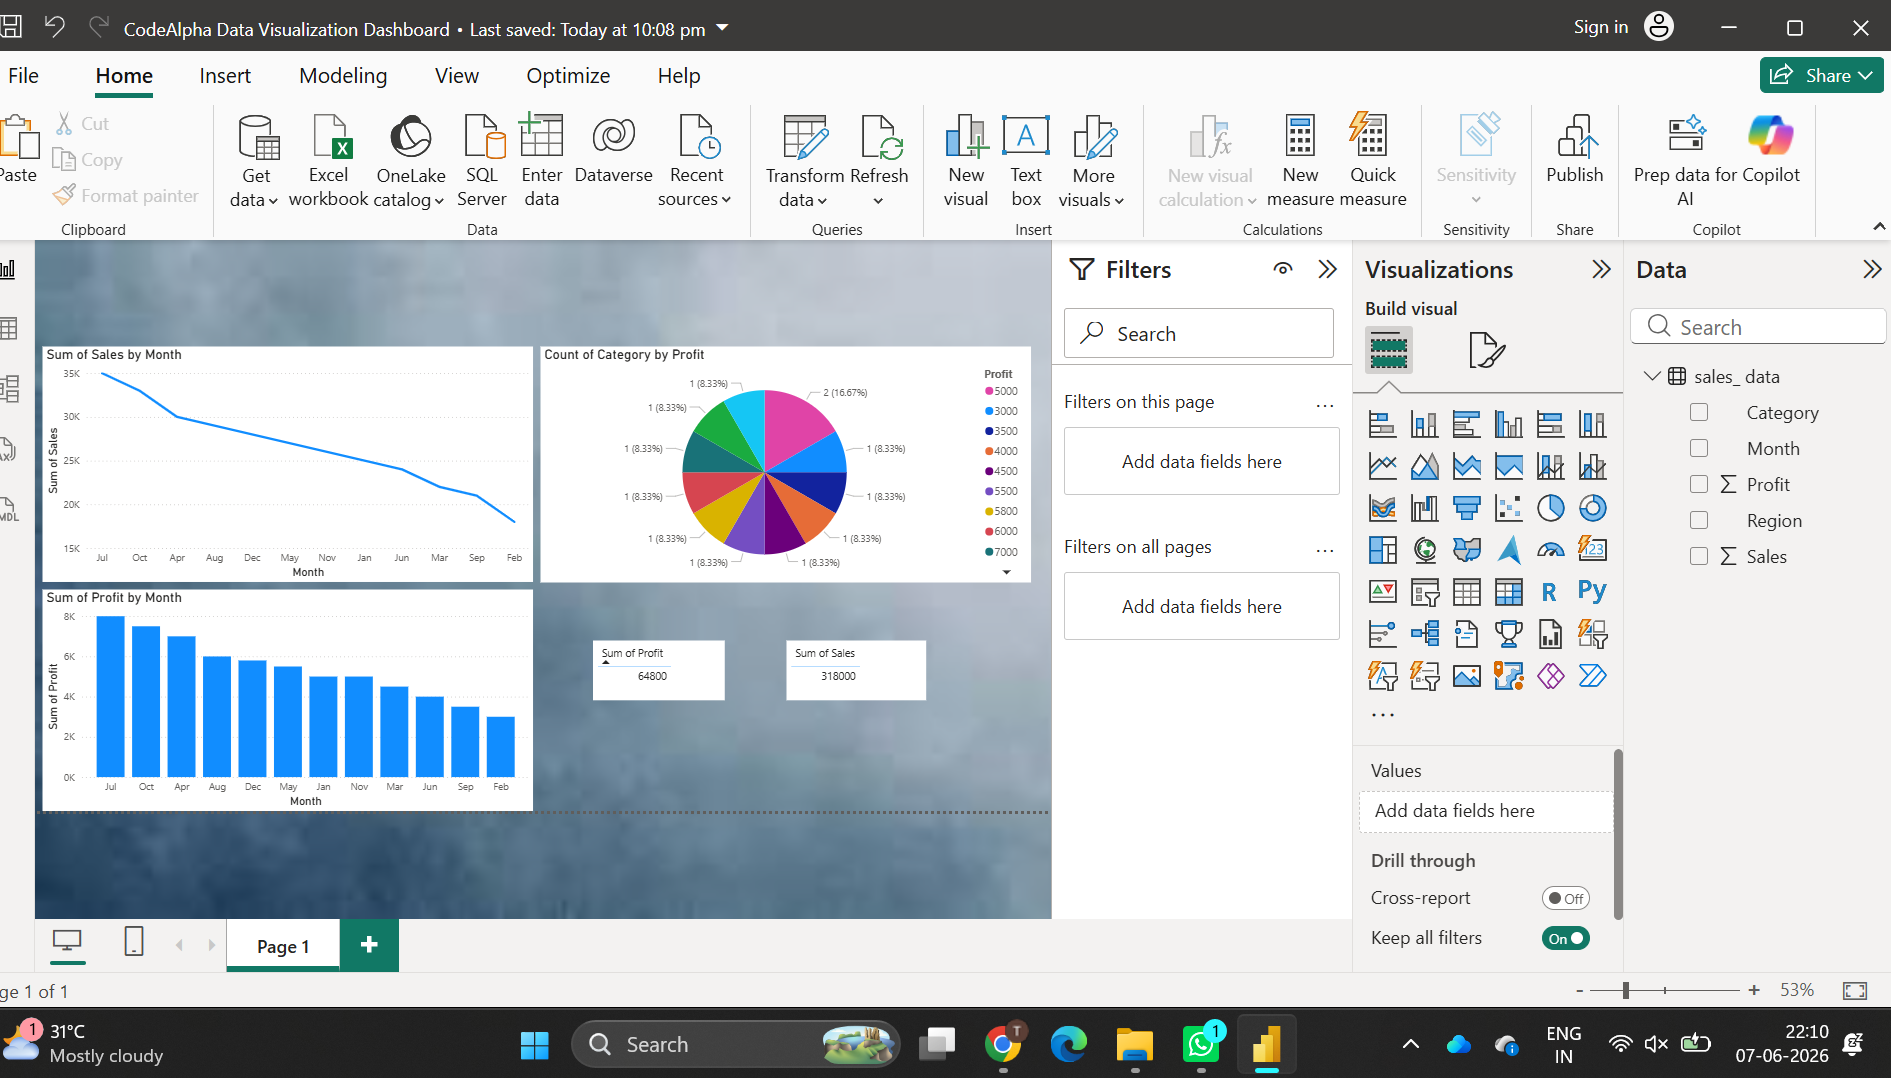

This screenshot's page, from the dashboard's own definition file:
{"tool":"powerbi","page":{"name":"Page 1","canvas":[1280,720],"ordinal":0},"visuals":[{"type":"lineChart","fields":{"Category":["sales_ data.Month"],"Y":["Sum(sales_ data.Sales)"]},"box":[9.4,134.2,618,296.7],"z":0},{"type":"tableEx","fields":{"Values":["Sum(sales_ data.Profit)"]},"box":[155,0,130.4,75.6],"z":1},{"type":"tableEx","fields":{"Values":["Sum(sales_ data.Sales)"]},"box":[374.2,0,153.1,73.7],"z":2},{"type":"clusteredColumnChart","fields":{"Category":["sales_ data.Month"],"Y":["Sum(sales_ data.Profit)"]},"box":[9,441,618,279],"z":3},{"type":"pieChart","fields":{"Category":["sales_ data.Profit"],"Y":["CountNonNull(sales_ data.Category)"]},"box":[637,134,618,297],"z":4}]}

Visuals, with their boxes on the page's 1280x720 design canvas (x1, y1, x2, y2). These are canvas units, not pixel positions in the 1891x1078 screenshot, which may show the page scaled, cropped or inside an application window:
lineChart - sales_ data.Month x Sum(sales_ data.Sales): box(9, 134, 627, 431)
tableEx - Sum(sales_ data.Profit): box(155, 0, 285, 76)
tableEx - Sum(sales_ data.Sales): box(374, 0, 527, 74)
clusteredColumnChart - sales_ data.Month x Sum(sales_ data.Profit): box(9, 441, 627, 720)
pieChart - sales_ data.Profit x CountNonNull(sales_ data.Category): box(637, 134, 1255, 431)
